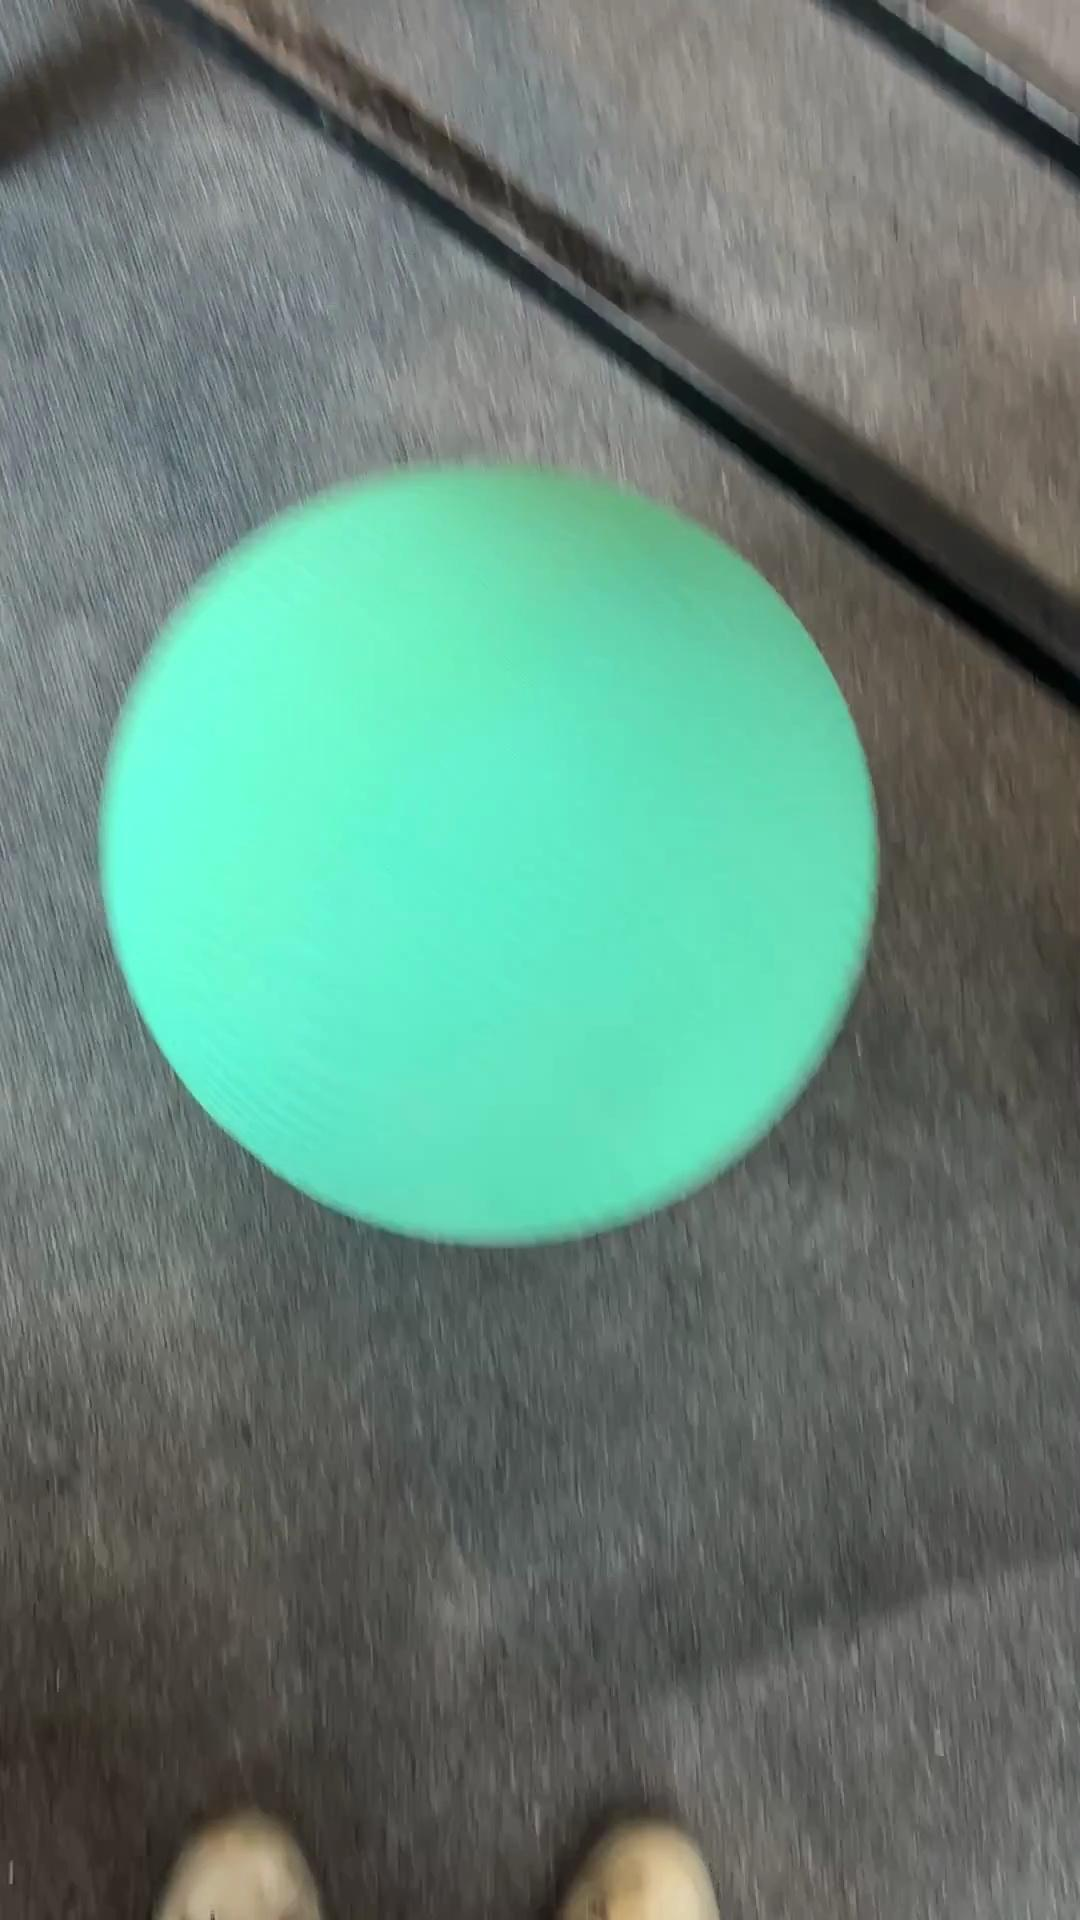ALGAE: (95, 459, 882, 1250)
